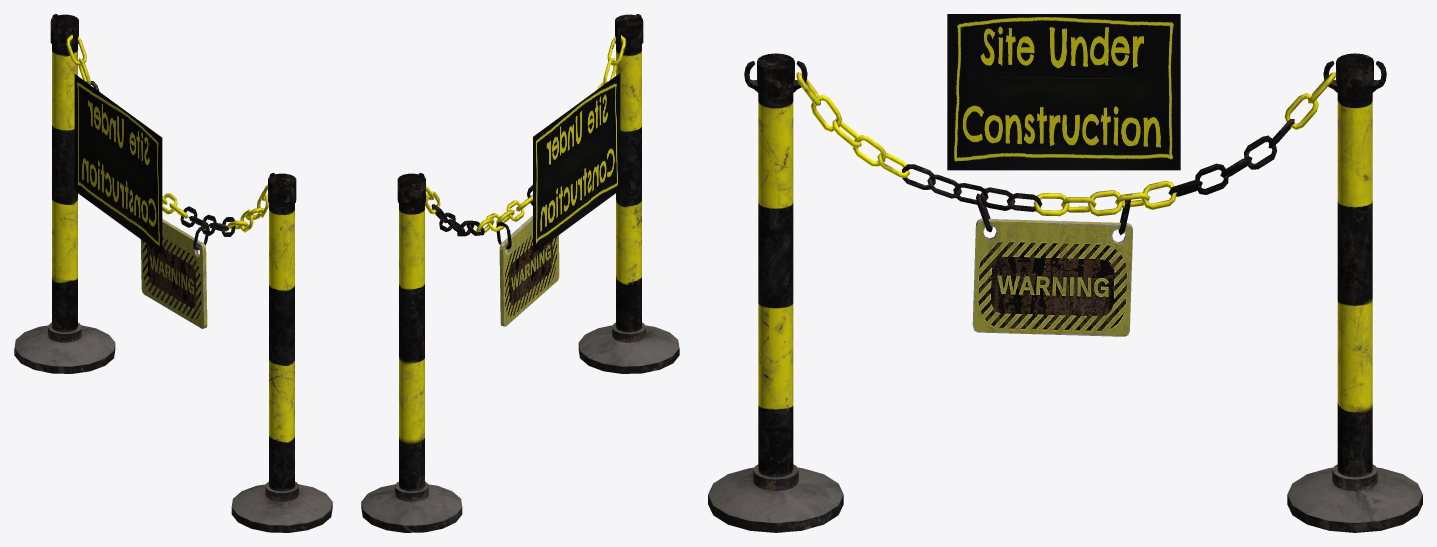
The picture shows the model from 3 angles, left to right: view 1: azimuth 30°, elevation 25°; view 2: azimuth 150°, elevation 25°; view 3: azimuth 270°, elevation 25°; orthographic projection. The views are drawn at different scales.
Visible parts, largest first — view 1: Pole, Object_2, Base, Sign, ChainYellow, ChainBlack; view 2: Pole, Object_2, Base, Sign, ChainYellow, ChainBlack; view 3: Object_2, Pole, Sign, Base, ChainYellow, ChainBlack.
Part boxes in pixels (x1,y1,x2,y2): Pole: [50, 14, 296, 491]; Object_2: [74, 74, 162, 254]; Base: [14, 322, 332, 532]; Sign: [140, 219, 207, 328]; ChainYellow: [66, 34, 268, 232]; ChainBlack: [86, 81, 235, 249]; Pole: [397, 14, 643, 491]; Object_2: [533, 73, 620, 253]; Base: [361, 322, 679, 532]; Sign: [499, 215, 559, 326]; ChainYellow: [425, 35, 625, 232]; ChainBlack: [431, 185, 532, 249]; Object_2: [947, 14, 1180, 170]; Pole: [744, 53, 1386, 477]; Sign: [972, 218, 1132, 336]; Base: [708, 464, 1422, 532]; ChainYellow: [796, 72, 1335, 216]; ChainBlack: [902, 119, 1294, 235].
Size of the model in its own units: 53.64 by 175 by 250.
2 materials, 2 textured.
